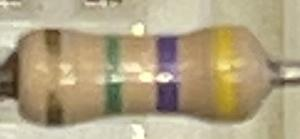Blue: (154, 37, 183, 113)
Green: (104, 34, 125, 117)
Side-Silver: (43, 27, 68, 126)
Yellow: (208, 27, 244, 123)
